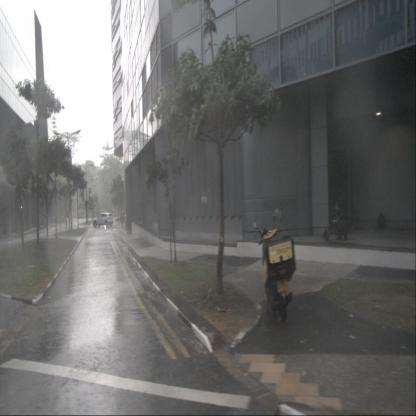human-pedestrian-adult: (332, 201, 350, 240)
vehicle-car: (92, 213, 114, 228)
vehicle-motorcycle: (252, 208, 296, 324)
